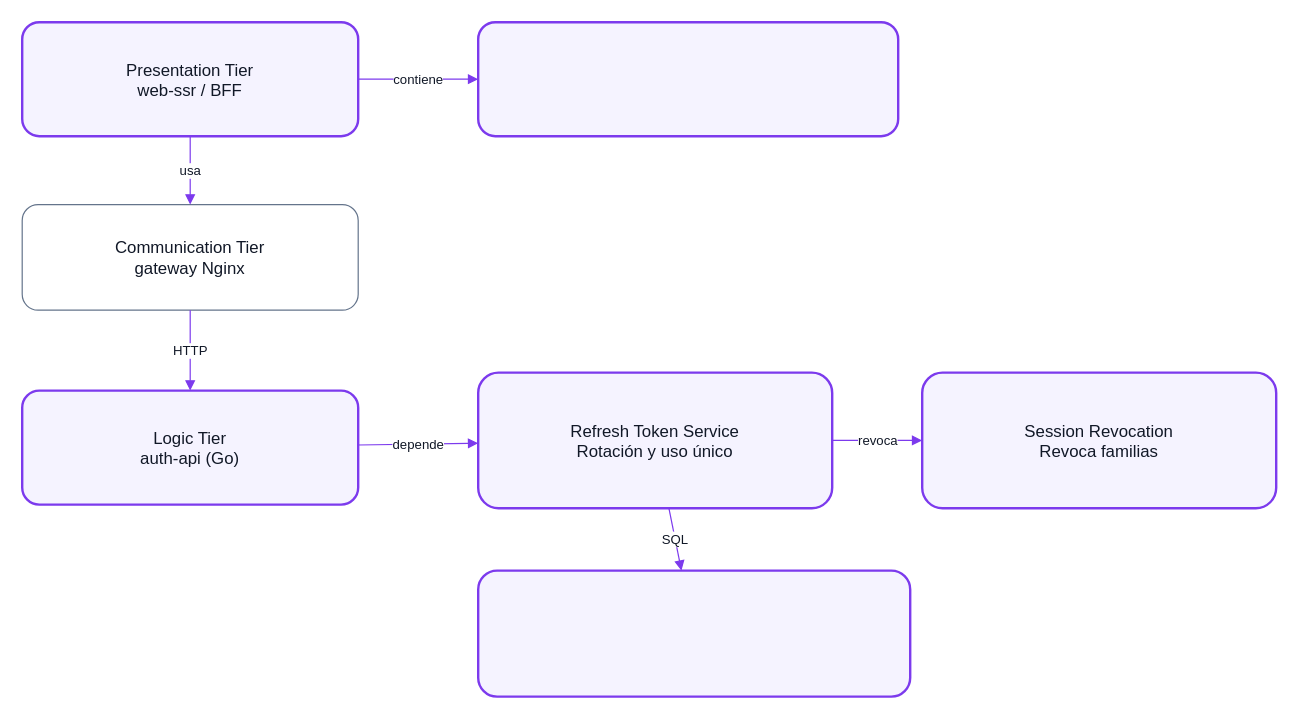
The diagram is 1297 pixels wide and 718 high, and some of its shapes have lost their labels. The centre of each missing label's shape, as x and y in pixels:
"Data / Messaging Tier user-db (refresh_tokens)" goes at point 693,633.
"Security Session Cookie HttpOnly + renovación" goes at point 687,78.
